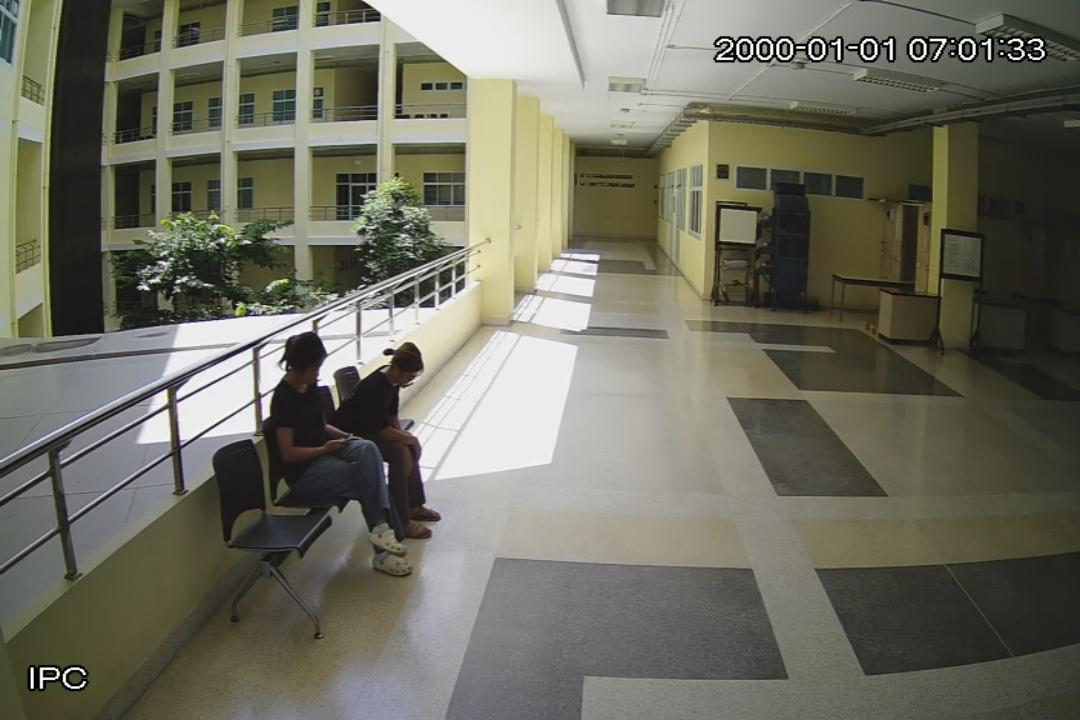normal: (266, 328, 418, 576), (325, 339, 437, 539)
